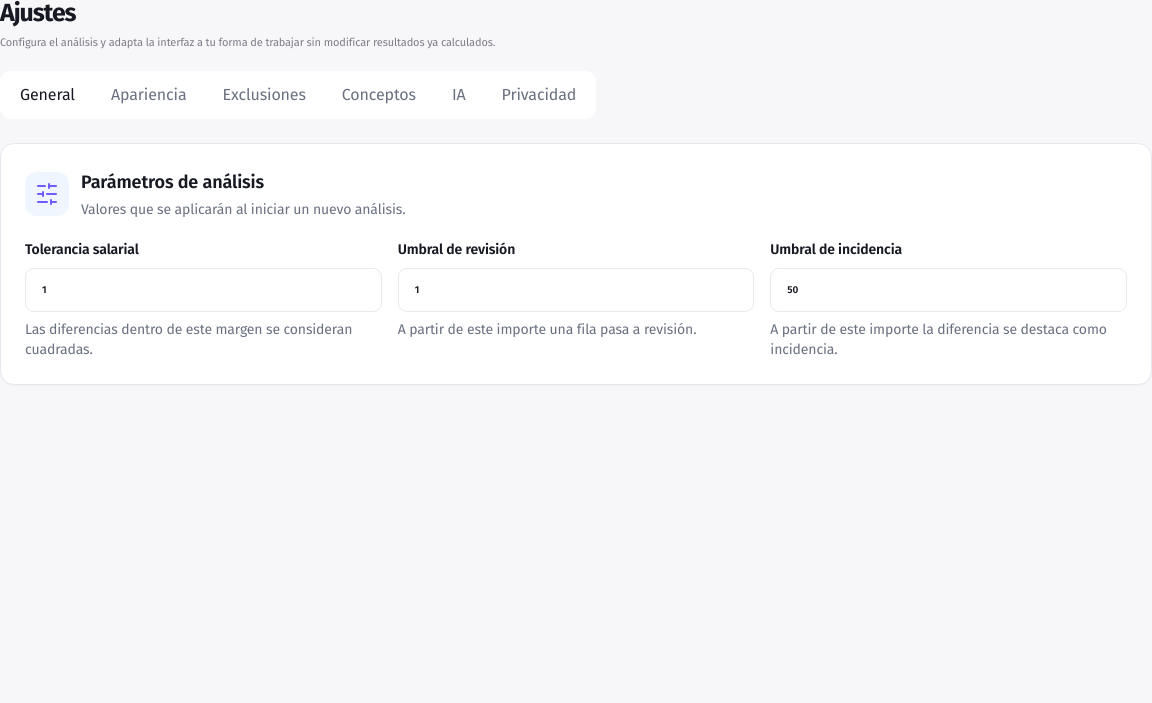
SettingsView › opens General by default and keeps visited settings panels mounted but hidden
Check: the element that starts with "Parámetros de análisis" is shown, box [0,143,1151,385]
Check: the heading "Conceptos del análisis" is not shown
Step 1. Click the tab "Conceptos" → (379, 95), box [326,75,432,115]
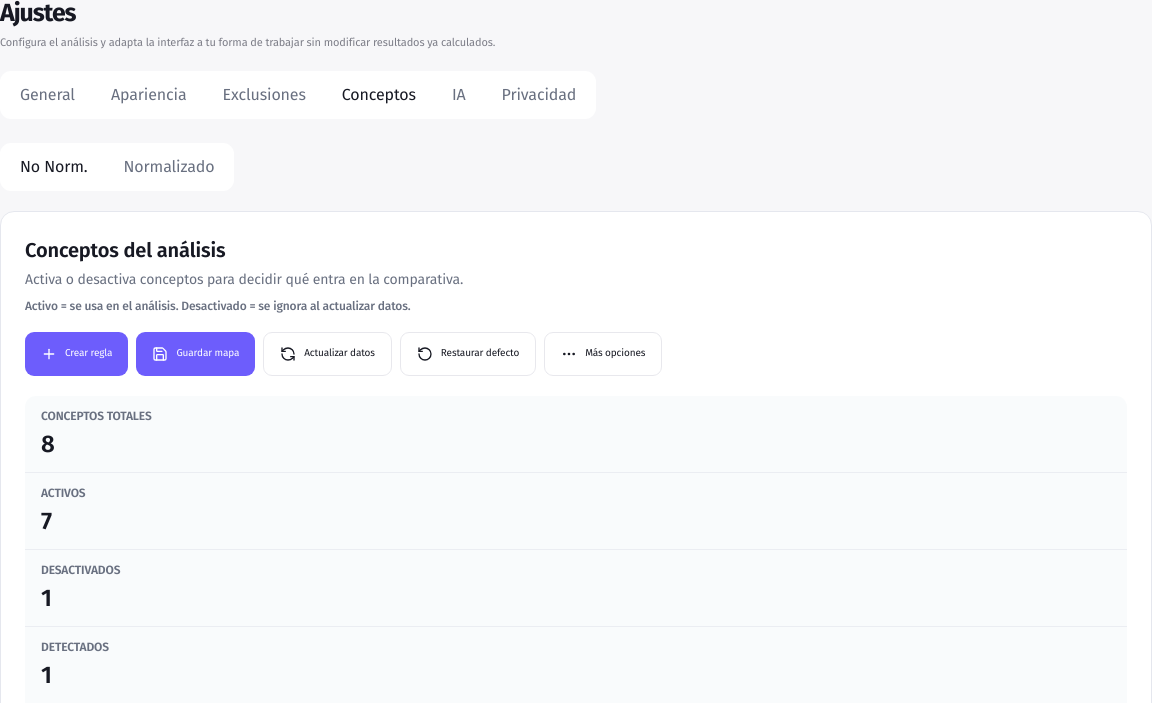
Check: the heading "Conceptos del análisis" is shown, box [25,238,225,262]
Step 2. Click the tab "General" → (47, 95), box [4,75,91,115]
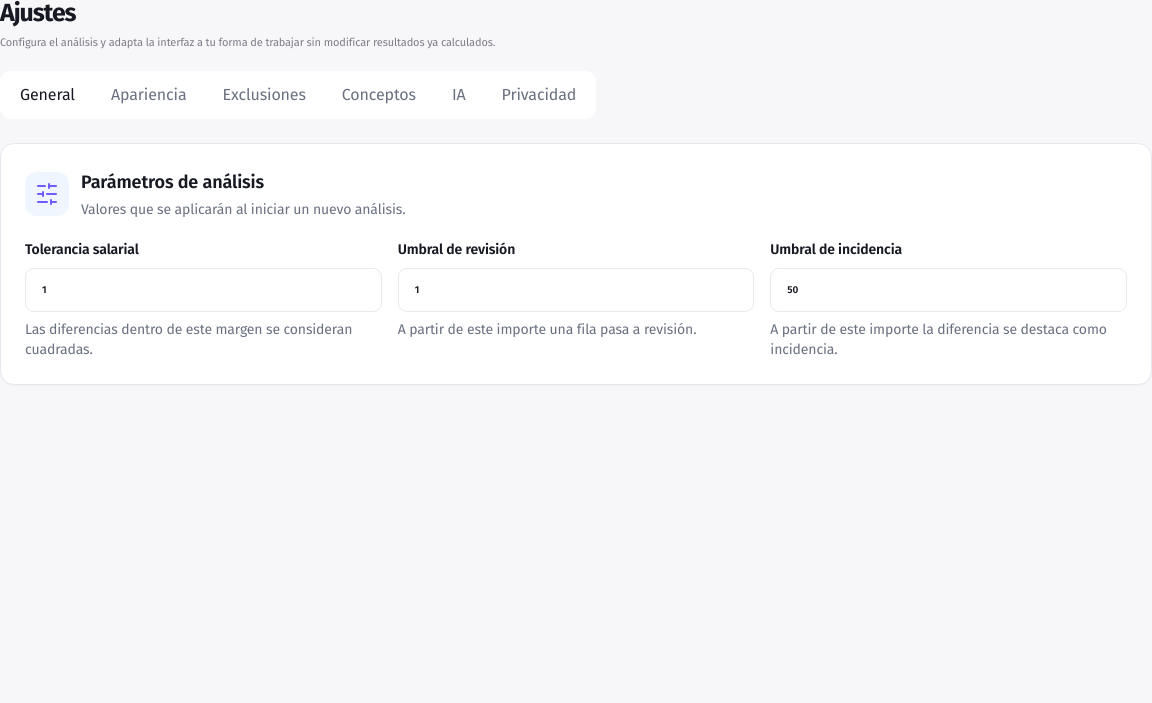
Check: the heading "Conceptos del análisis" is gone
